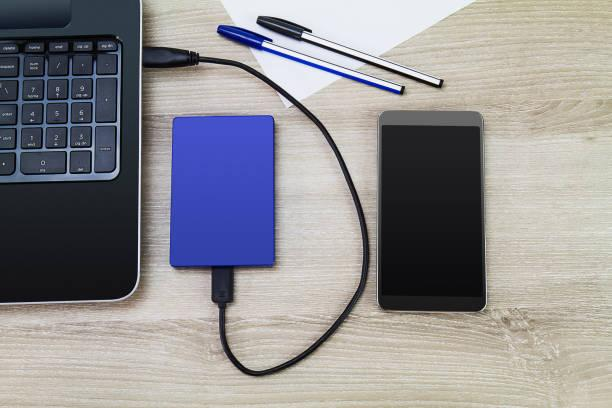HDD: (168, 115, 276, 270)
